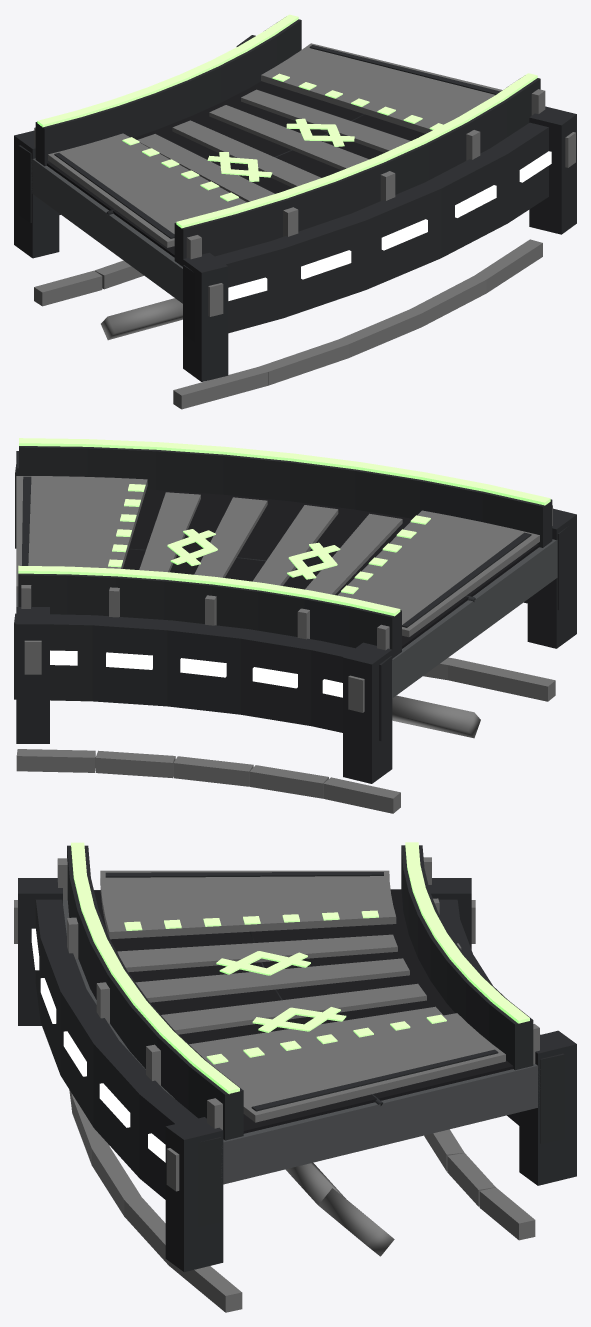
File: Curve_30_Conveyor_Belt_v4.glb
3 renders of one model, top to bottom at view 1: azimuth 30°, elevation 25°; view 2: azimuth 150°, elevation 25°; view 3: azimuth 270°, elevation 25°, orthographic. The views are drawn at different scales.
Visible parts, largest first — view 1: Curve_30_Conveyor_Belt_v4, Treads, TreadsRev; view 2: Curve_30_Conveyor_Belt_v4, Treads, TreadsRev; view 3: Curve_30_Conveyor_Belt_v4, TreadsRev, Treads.
Boxes of the visible parts, x1,y1,x2,y2 form: Curve_30_Conveyor_Belt_v4: (14,14,576,409); Treads: (137,89,399,202); TreadsRev: (139,90,410,201); Curve_30_Conveyor_Belt_v4: (14,438,576,813); Treads: (139,492,376,594); TreadsRev: (139,494,402,594); Curve_30_Conveyor_Belt_v4: (14,842,576,1312); TreadsRev: (118,935,443,1048); Treads: (117,934,440,1057).
Bounding box in the file's own units: 4.69 × 1.83 × 4.24.
